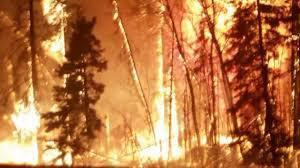fire: (0, 0, 297, 164)
